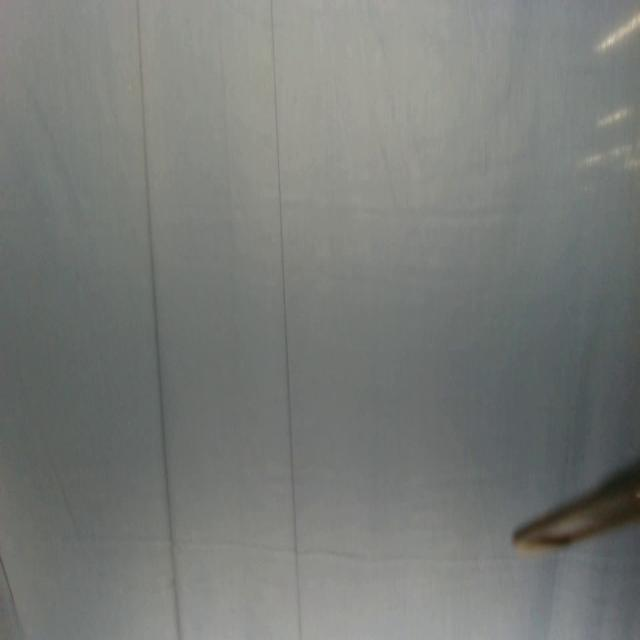crease: (135, 0, 183, 638), (269, 0, 304, 640), (0, 558, 19, 619)
